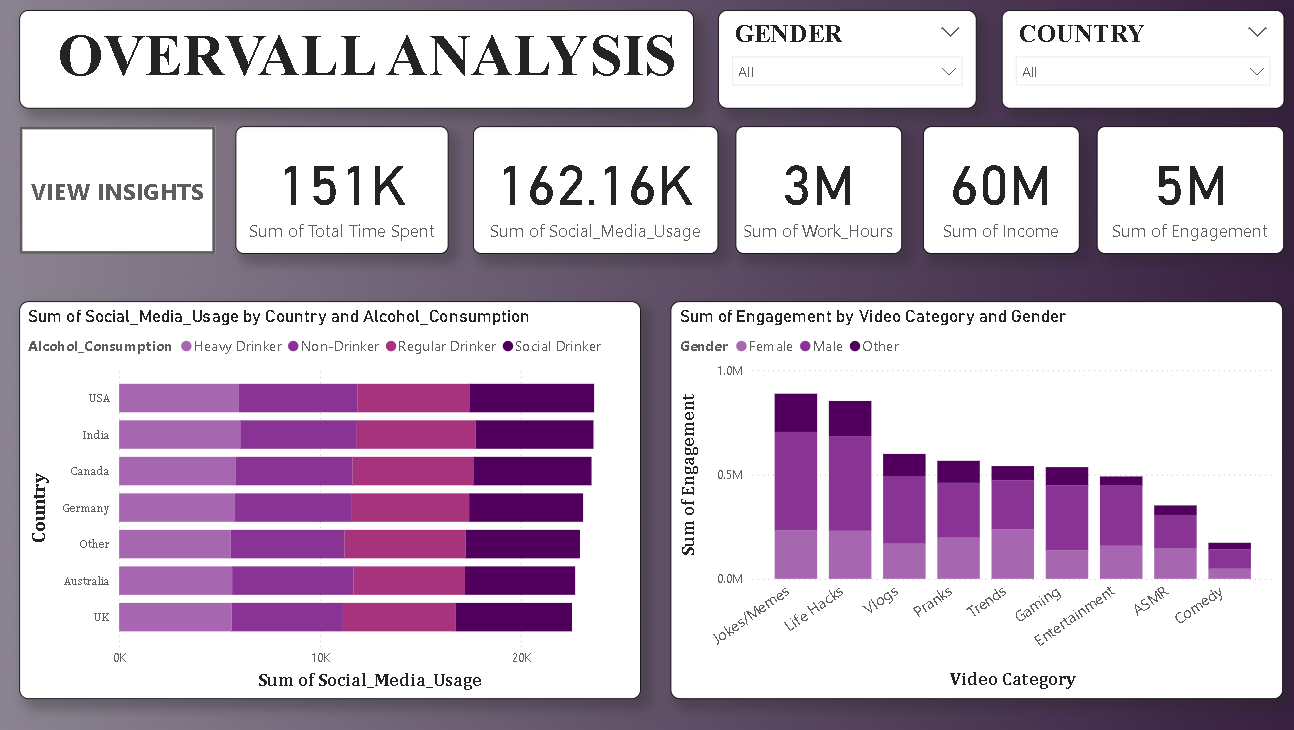

This screenshot's page, from the dashboard's own definition file:
{"tool":"powerbi","page":{"name":"OVERVIEW","canvas":[1280,720],"ordinal":0},"visuals":[{"type":"barChart","fields":{"Category":["mental_health_data final data.Country"],"Y":["Sum(mental_health_data final data.Social_Media_Usage)"],"Series":["mental_health_data final data.Alcohol_Consumption"]},"box":[30.5,295.1,600,384.1],"z":0},{"type":"card","fields":{"Values":["Sum(mental_health_data final data.Social_Media_Usage)"]},"box":[468.1,126.7,236.5,123.1],"z":1000},{"type":"card","fields":{"Values":["Sum(SocialMedia.Total Time Spent)"]},"box":[238.8,126.2,205.8,123.5],"z":2000},{"type":"textbox","box":[30.2,14.5,651.5,95.3],"z":3000},{"type":"slicer","fields":{"Values":["mental_health_data final data.Country"]},"box":[978.4,14.5,272.7,95.3],"z":4000},{"type":"slicer","fields":{"Values":["SocialMedia.Gender"]},"box":[704.6,14.5,249.7,95.3],"z":5000},{"type":"card","fields":{"Values":["Sum(mental_health_data final data.Work_Hours)"]},"box":[721.5,126.7,160.5,123.1],"z":6000},{"type":"card","fields":{"Values":["Sum(SocialMedia.Income)"]},"box":[902.4,126.7,150.8,123.1],"z":7000},{"type":"card","fields":{"Values":["Sum(SocialMedia.Engagement)"]},"box":[1070.1,126.7,181,123.1],"z":8000},{"type":"columnChart","fields":{"Category":["SocialMedia.Video Category"],"Y":["Sum(SocialMedia.Engagement)"],"Series":["SocialMedia.Gender"]},"box":[658.7,295.6,591.2,383.6],"z":9000},{"type":"actionButton","box":[30.2,126.2,189.4,123.5],"z":10000}]}

Visuals, with their boxes in screenshot pixels (x1, y1, x2, y2), scaled from the page's 1280x720 canvas onto the 1294x730 screenshot:
barChart - mental_health_data final data.Country x Sum(mental_health_data final data.Social_Media_Usage): 31 299 637 689
card - Sum(mental_health_data final data.Social_Media_Usage): 473 128 712 253
card - Sum(SocialMedia.Total Time Spent): 241 128 449 253
textbox: 31 15 689 111
slicer - mental_health_data final data.Country: 989 15 1265 111
slicer - SocialMedia.Gender: 712 15 965 111
card - Sum(mental_health_data final data.Work_Hours): 729 128 892 253
card - Sum(SocialMedia.Income): 912 128 1065 253
card - Sum(SocialMedia.Engagement): 1082 128 1265 253
columnChart - SocialMedia.Video Category x Sum(SocialMedia.Engagement): 666 300 1264 689
actionButton: 31 128 222 253
